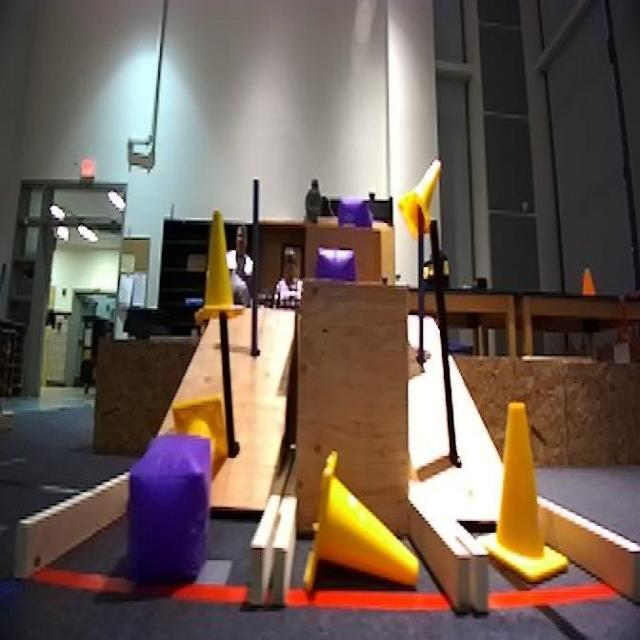frc_cone: (308, 450, 434, 586), (488, 392, 566, 592), (204, 222, 254, 328), (401, 152, 446, 238), (175, 395, 228, 454)
frc_cube: (120, 439, 210, 586), (334, 192, 371, 245), (316, 242, 354, 289)
